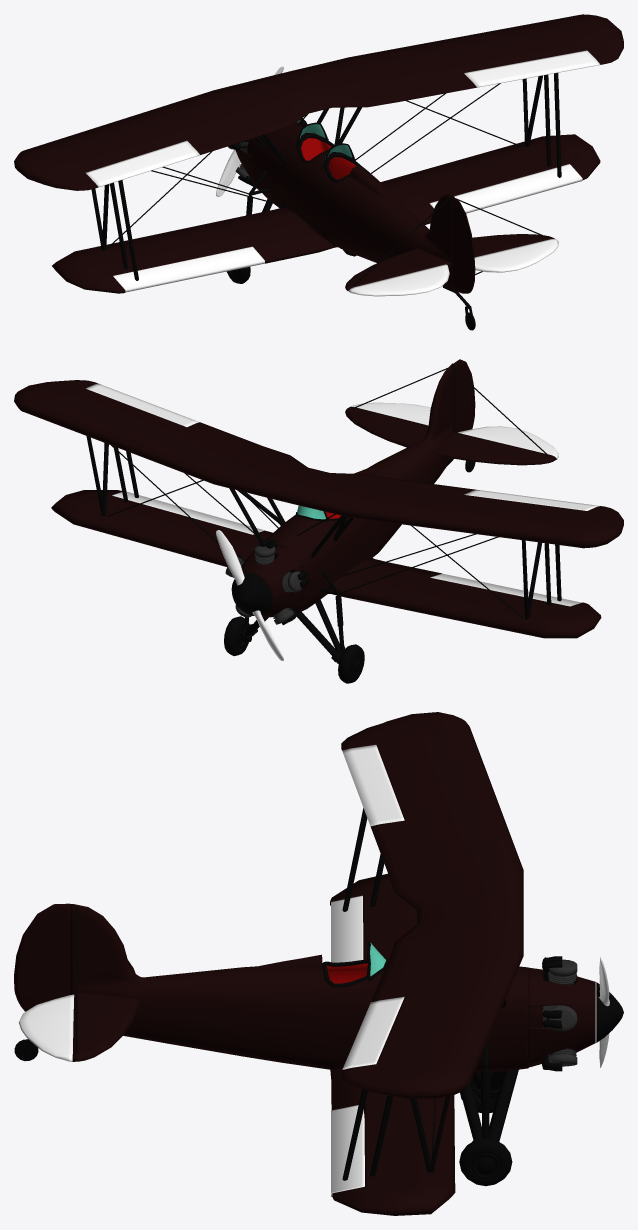
The model's file is GreatLakesBiplane.obj.
3 renders of one model, top to bottom at view 1: azimuth 30°, elevation 25°; view 2: azimuth 150°, elevation 25°; view 3: azimuth 270°, elevation 25°, orthographic. The views are drawn at different scales.
Visible parts, largest first — view 1: TWheel; view 2: TWheel; view 3: TWheel.
Boxes of the visible parts, x1,y1,x2,y2 form: TWheel: [14, 14, 623, 330]; TWheel: [14, 359, 623, 683]; TWheel: [14, 712, 623, 1215].
Bounding box in the file's own units: 8.14 × 2.54 × 5.53.
